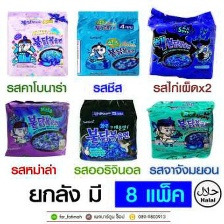snack: (143, 4, 220, 81), (72, 5, 143, 80), (142, 95, 218, 163), (2, 7, 71, 79), (74, 95, 141, 164), (0, 97, 72, 161)
